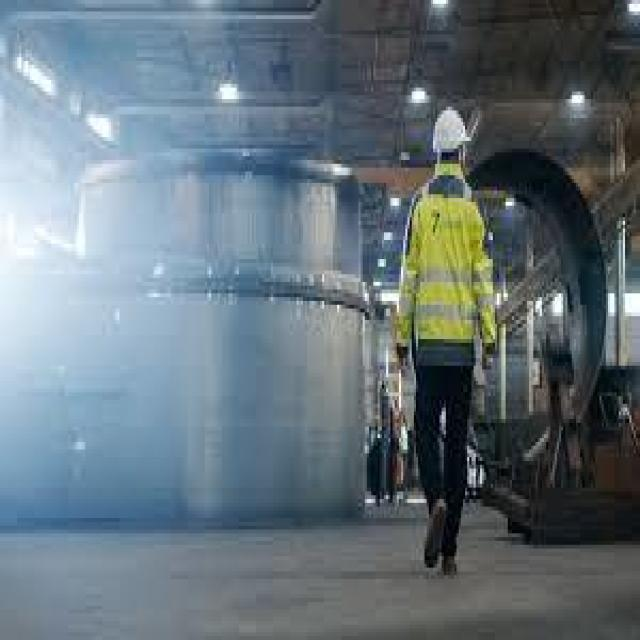safety_helmet: (394, 164, 500, 375)
